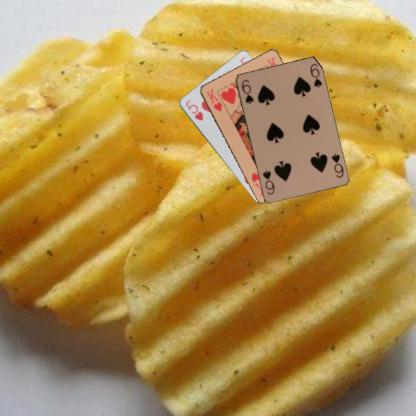5h: (183, 97, 204, 122)
6s: (238, 77, 254, 105), (329, 151, 344, 179)
Kh: (203, 86, 223, 113)
